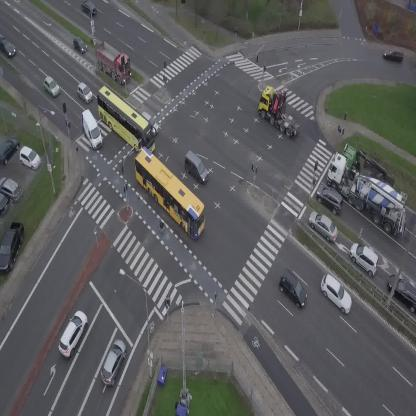bicycle: (158, 220, 165, 237)
bus: (121, 146, 218, 241), (85, 83, 166, 158)
car: (313, 272, 359, 316), (53, 308, 92, 359), (97, 337, 131, 387), (273, 268, 314, 309), (344, 239, 385, 278), (311, 180, 350, 218), (304, 208, 344, 245), (178, 150, 214, 185), (39, 75, 62, 99), (74, 81, 96, 104), (68, 35, 90, 57), (0, 34, 17, 59), (142, 110, 160, 128), (383, 49, 404, 62)
lorry: (250, 80, 314, 140), (339, 143, 402, 188), (86, 36, 140, 87), (77, 108, 105, 151)
